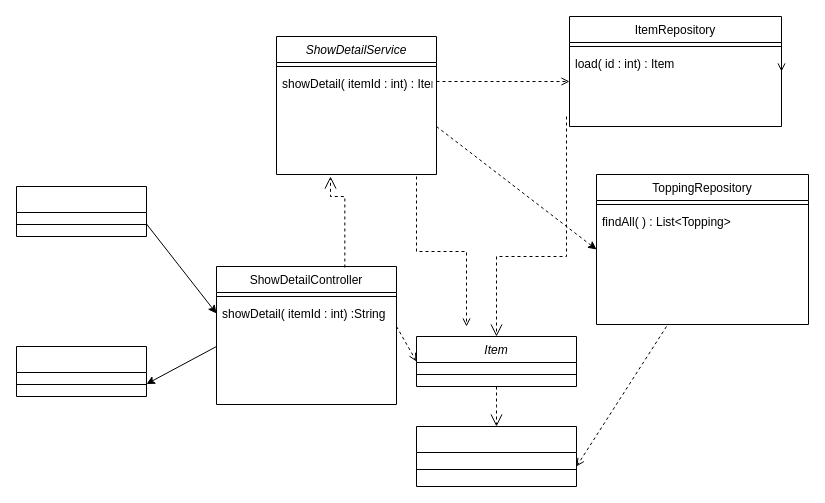
The diagram is 825 pixels wide and 503 high, and some of its shapes have lost their labels. Each missing label, with the centre of its shape:
"item_detail.html" goes at (x=81, y=371).
"item_list.html" goes at (x=81, y=211).
"Topping" goes at (x=496, y=456).
